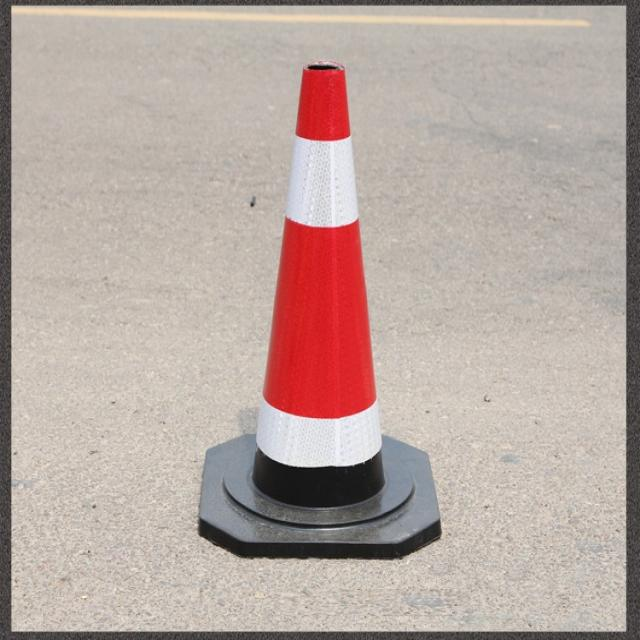reflective_cone: (192, 57, 446, 560)
